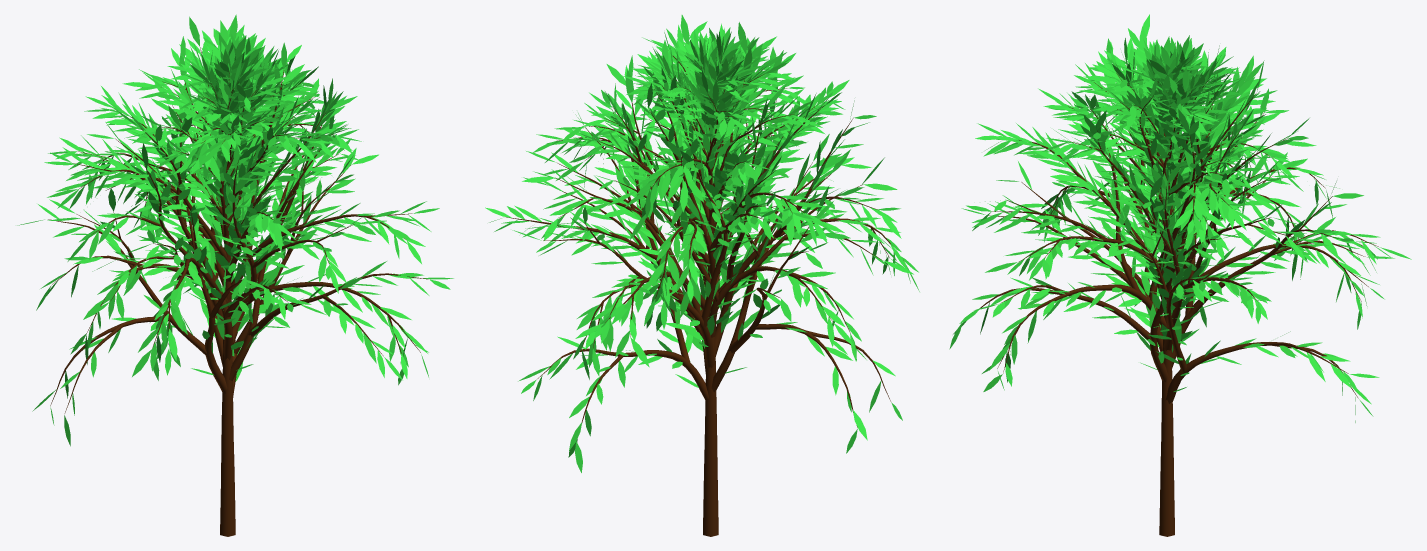
File: Tree.fbx
3 views of the same model, side by side, from view 1: azimuth 30°, elevation 25°; view 2: azimuth 150°, elevation 25°; view 3: azimuth 270°, elevation 25° (orthographic).
Visible parts, largest first — view 1: leaves.013, Tree.001; view 2: leaves.013, Tree.001; view 3: leaves.013, Tree.001.
Boxes of the visible parts, x1=… form: leaves.013: x1=17, y1=14, x2=453, y2=446; Tree.001: x1=48, y1=47, x2=428, y2=536; leaves.013: x1=485, y1=15, x2=919, y2=472; Tree.001: x1=506, y1=55, x2=904, y2=536; leaves.013: x1=949, y1=14, x2=1411, y2=422; Tree.001: x1=980, y1=63, x2=1378, y2=536.
Size of the model in its own units: 946 by 835 by 1116.
